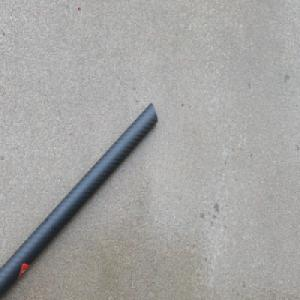LuggagePart: (0, 99, 159, 297)
